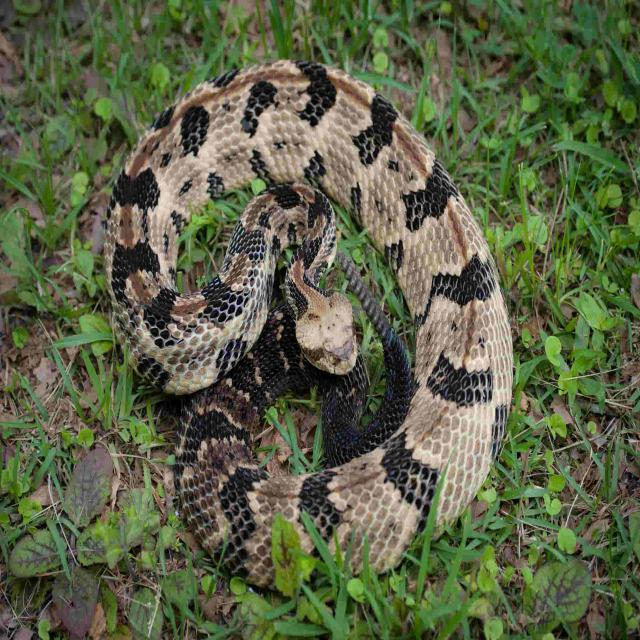Snake: (96, 42, 544, 590)
